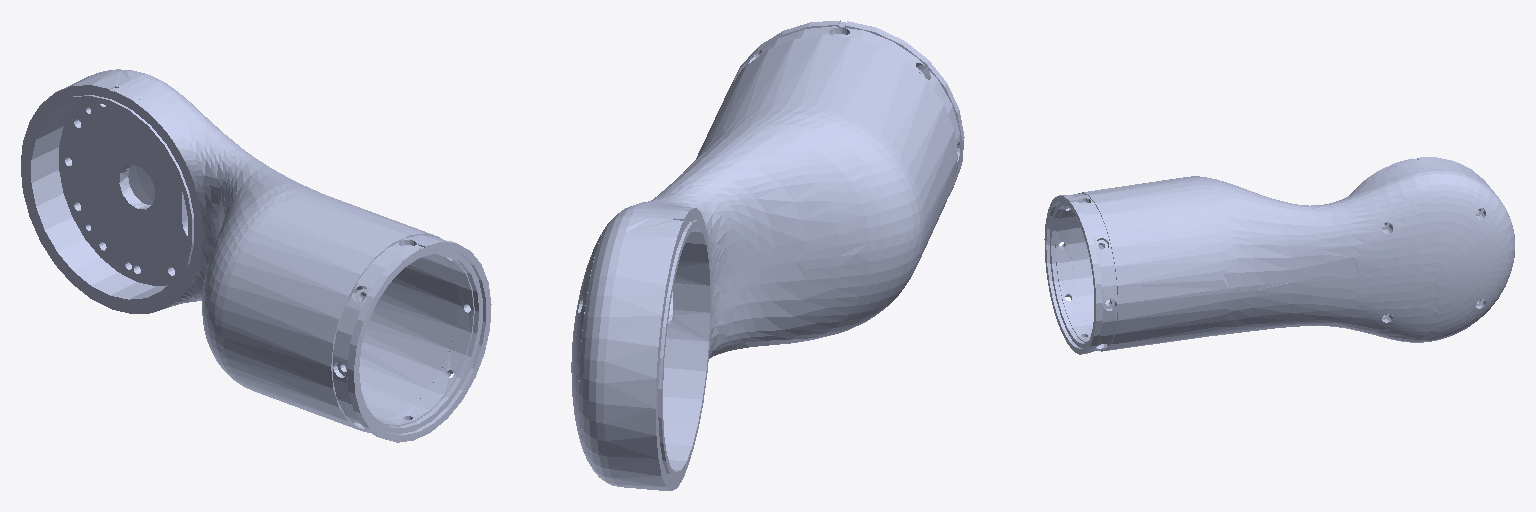
URDF robot description (cobot_description):
<?xml version="1.0" encoding="utf-8"?>
<!-- This URDF was automatically created by SolidWorks to URDF Exporter! Originally created by [author] ([email redacted]) 
     Commit Version: 1.6.0-1-g15f4949  Build Version: 1.6.7594.29634
     For more information, please see http://wiki.ros.org/sw_urdf_exporter -->
<robot
  name="cobot_description">
  <link
    name="base_footprint">
    <inertial>
      <origin
        xyz="0.007766 5.8979E-06 0.18238"
        rpy="0 0 0" />
      <mass
        value="17.629" />
      <inertia
        ixx="0.15019"
        ixy="2.3019E-07"
        ixz="-0.0001315"
        iyy="0.31758"
        iyz="-9.9463E-08"
        izz="0.45265" />
    </inertial>
    <visual>
      <origin
        xyz="0 0 0"
        rpy="0 0 0" />
      <geometry>
        <mesh
          filename="package://cobot_description/meshes/base_footprint.STL" />
      </geometry>
      <material
        name="">
        <color
          rgba="0.77647 0.77647 0.81961 1" />
      </material>
    </visual>
    <collision>
      <origin
        xyz="0 0 0"
        rpy="0 0 0" />
      <geometry>
        <mesh
          filename="package://cobot_description/meshes/base_footprint.STL" />
      </geometry>
    </collision>
  </link>
  <link
    name="base_link">
    <inertial>
      <origin
        xyz="-0.18605 0.0010457 0.13419"
        rpy="0 0 0" />
      <mass
        value="35.137" />
      <inertia
        ixx="0.52213"
        ixy="0.00028039"
        ixz="-0.0048629"
        iyy="1.0698"
        iyz="-0.0011677"
        izz="1.4095" />
    </inertial>
    <visual>
      <origin
        xyz="0 0 0"
        rpy="0 0 0" />
      <geometry>
        <mesh
          filename="package://cobot_description/meshes/rm65_meshes/base_link.STL" />
      </geometry>
      <material
        name="">
        <color
          rgba="0.77647 0.77647 0.81961 1" />
      </material>
    </visual>
    <collision>
      <origin
        xyz="0 0 0"
        rpy="0 0 0" />
      <geometry>
        <mesh
          filename="package://cobot_description/meshes/rm65_meshes/base_link.STL" />
      </geometry>
    </collision>
  </link>
  <joint
    name="base_link"
    type="fixed">
    <origin
      xyz="0.201 0 0.072"
      rpy="0 0 0" />
    <parent
      link="base_footprint" />
    <child
      link="base_link" />
    <axis
      xyz="0 0 0" />
  </joint>
  <link
    name="fr_wheel">
    <inertial>
      <origin
        xyz="-1.4155E-15 -1.1102E-16 -0.00027897"
        rpy="0 0 0" />
      <mass
        value="1.1349" />
      <inertia
        ixx="0.0020665"
        ixy="1.4611E-19"
        ixz="6.3436E-18"
        iyy="0.0020665"
        iyz="-2.0749E-19"
        izz="0.0035433" />
    </inertial>
    <visual>
      <origin
        xyz="0 0 0"
        rpy="0 0 0" />
      <geometry>
        <mesh
          filename="package://cobot_description/meshes/fr_wheel.STL" />
      </geometry>
      <material
        name="">
        <color
          rgba="0.79216 0.81961 0.93333 1" />
      </material>
    </visual>
    <collision>
      <origin
        xyz="0 0 0"
        rpy="0 0 0" />
      <geometry>
        <mesh
          filename="package://cobot_description/meshes/fr_wheel.STL" />
      </geometry>
    </collision>
  </link>
  <joint
    name="fr_wheel_joint"
    type="continuous">
    <origin
      xyz="0 -0.2 0.011"
      rpy="1.5708 0 0" />
    <parent
      link="base_link" />
    <child
      link="fr_wheel" />
    <axis
      xyz="0 0 -1" />
  </joint>
  <link
    name="fl_wheel">
    <inertial>
      <origin
        xyz="1.4155E-15 -9.7145E-17 -0.00027897"
        rpy="0 0 0" />
      <mass
        value="1.1349" />
      <inertia
        ixx="0.0020665"
        ixy="-1.9153E-20"
        ixz="-8.9965E-18"
        iyy="0.0020665"
        iyz="3.0668E-20"
        izz="0.0035433" />
    </inertial>
    <visual>
      <origin
        xyz="0 0 0"
        rpy="0 0 0" />
      <geometry>
        <mesh
          filename="package://cobot_description/meshes/fl_wheel.STL" />
      </geometry>
      <material
        name="">
        <color
          rgba="0.79216 0.81961 0.93333 1" />
      </material>
    </visual>
    <collision>
      <origin
        xyz="0 0 0"
        rpy="0 0 0" />
      <geometry>
        <mesh
          filename="package://cobot_description/meshes/fl_wheel.STL" />
      </geometry>
    </collision>
  </link>
  <joint
    name="fl_wheel_joint"
    type="continuous">
    <origin
      xyz="0 0.2 0.011"
      rpy="1.5708 0 3.1416" />
    <parent
      link="base_link" />
    <child
      link="fl_wheel" />
    <axis
      xyz="0 0 1" />
  </joint>
  <link
    name="br_wheel">
    <inertial>
      <origin
        xyz="0.00023168 -0.0094468 -0.051255"
        rpy="0 0 0" />
      <mass
        value="2.4675" />
      <inertia
        ixx="0.0014416"
        ixy="-1.0824E-06"
        ixz="-6.1151E-07"
        iyy="0.0013614"
        iyz="4.2013E-05"
        izz="0.0015992" />
    </inertial>
    <visual>
      <origin
        xyz="0 0 0"
        rpy="0 0 0" />
      <geometry>
        <mesh
          filename="package://cobot_description/meshes/br_wheel.STL" />
      </geometry>
      <material
        name="">
        <color
          rgba="0.41176 0.41176 0.41176 1" />
      </material>
    </visual>
    <collision>
      <origin
        xyz="0 0 0"
        rpy="0 0 0" />
      <geometry>
        <mesh
          filename="package://cobot_description/meshes/br_wheel.STL" />
      </geometry>
    </collision>
  </link>
  <joint
    name="br_wheel_joint"
    type="continuous">
    <origin
      xyz="-0.402 -0.173 0.0405"
      rpy="0 0 -1.5708" />
    <parent
      link="base_link" />
    <child
      link="br_wheel" />
    <axis
      xyz="0 0 -1" />
  </joint>
  <link
    name="bl_wheel">
    <inertial>
      <origin
        xyz="-6.5897E-05 0.0094494 -0.051255"
        rpy="0 0 0" />
      <mass
        value="2.4675" />
      <inertia
        ixx="0.0014415"
        ixy="-2.4885E-06"
        ixz="-1.2571E-07"
        iyy="0.0013615"
        iyz="-4.2017E-05"
        izz="0.0015992" />
    </inertial>
    <visual>
      <origin
        xyz="0 0 0"
        rpy="0 0 0" />
      <geometry>
        <mesh
          filename="package://cobot_description/meshes/bl_wheel.STL" />
      </geometry>
      <material
        name="">
        <color
          rgba="0.41176 0.41176 0.41176 1" />
      </material>
    </visual>
    <collision>
      <origin
        xyz="0 0 0"
        rpy="0 0 0" />
      <geometry>
        <mesh
          filename="package://cobot_description/meshes/bl_wheel.STL" />
      </geometry>
    </collision>
  </link>
  <joint
    name="bl_wheel_joint"
    type="continuous">
    <origin
      xyz="-0.402 0.173 0.0405"
      rpy="0 0 1.5708" />
    <parent
      link="base_link" />
    <child
      link="bl_wheel" />
    <axis
      xyz="0 0 -1" />
  </joint>
  <link
    name="front_lidar">
    <inertial>
      <origin
        xyz="-0.00016986 -2.2612E-10 0.018642"
        rpy="0 0 0" />
      <mass
        value="0.15478" />
      <inertia
        ixx="6.9567E-05"
        ixy="-1.7298E-12"
        ixz="-4.6381E-07"
        iyy="7.1065E-05"
        iyz="-5.4415E-13"
        izz="9.8843E-05" />
    </inertial>
    <visual>
      <origin
        xyz="0 0 0"
        rpy="0 0 0" />
      <geometry>
        <mesh
          filename="package://cobot_description/meshes/front_lidar.STL" />
      </geometry>
      <material
        name="">
        <color
          rgba="1 1 1 1" />
      </material>
    </visual>
    <collision>
      <origin
        xyz="0 0 0"
        rpy="0 0 0" />
      <geometry>
        <mesh
          filename="package://cobot_description/meshes/front_lidar.STL" />
      </geometry>
    </collision>
  </link>
  <joint
    name="front_lidar_joint"
    type="fixed">
    <origin
      xyz="0.083559 0 0.314"
      rpy="0 0 0" />
    <parent
      link="base_link" />
    <child
      link="front_lidar" />
    <axis
      xyz="0 0 0" />
  </joint>
  <link
    name="arm_base">
    <inertial>
      <origin
        xyz="-0.024179 0.0061525 0.44341"
        rpy="0 0 0" />
      <mass
        value="8.0743" />
      <inertia
        ixx="0.080601"
        ixy="4.9995E-05"
        ixz="0.00052048"
        iyy="0.077325"
        iyz="-2.0984E-05"
        izz="0.024026" />
    </inertial>
    <visual>
      <origin
        xyz="0 0 0"
        rpy="0 0 0" />
      <geometry>
        <mesh
          filename="package://cobot_description/meshes/arm_base.STL" />
      </geometry>
      <material
        name="">
        <color
          rgba="0.69804 0.69804 0.69804 1" />
      </material>
    </visual>
    <collision>
      <origin
        xyz="0 0 0"
        rpy="0 0 0" />
      <geometry>
        <mesh
          filename="package://cobot_description/meshes/arm_base.STL" />
      </geometry>
    </collision>
  </link>
  <joint
    name="arm_base"
    type="fixed">
    <origin
      xyz="-0.101 0 0.273"
      rpy="0 0 0" />
    <parent
      link="base_link" />
    <child
      link="arm_base" />
    <axis
      xyz="0 0 0" />
  </joint>
  <link
    name="Link1">
    <inertial>
      <origin
        xyz="-0.016412 0.00026497 -0.060445"
        rpy="0 0 0" />
      <mass
        value="0.53096" />
      <inertia
        ixx="0.00096525"
        ixy="1.49E-05"
        ixz="-1.7049E-05"
        iyy="0.0018872"
        iyz="1.0632E-06"
        izz="0.0018331" />
    </inertial>
    <visual>
      <origin
        xyz="0 0 0"
        rpy="0 0 0" />
      <geometry>
        <mesh
          filename="package://cobot_description/meshes/rm65_meshes/Link1.STL" />
      </geometry>
      <material
        name="">
        <color
          rgba="1 1 1 1" />
      </material>
    </visual>
    <collision>
      <origin
        xyz="0 0 0"
        rpy="0 0 0" />
      <geometry>
        <mesh
          filename="package://cobot_description/meshes/rm65_meshes/Link1.STL" />
      </geometry>
    </collision>
  </link>
  <joint
    name="joint1"
    type="continuous">
    <origin
      xyz="0 0 0.4878"
      rpy="3.1416 0 -2.8131" />
    <parent
      link="arm_base" />
    <child
      link="Link1" />
    <axis
      xyz="0 0 -1" />
  </joint>
  <link
    name="Link2">
    <inertial>
      <origin
        xyz="-0.013925 -0.0036303 -0.24133"
        rpy="0 0 0" />
      <mass
        value="2.467" />
      <inertia
        ixx="0.0043154"
        ixy="-0.00036299"
        ixz="-0.00050966"
        iyy="0.0045892"
        iyz="-0.00056301"
        izz="0.0029702" />
    </inertial>
    <visual>
      <origin
        xyz="0 0 0"
        rpy="0 0 0" />
      <geometry>
        <mesh
          filename="package://cobot_description/meshes/rm65_meshes/Link2.STL" />
      </geometry>
      <material
        name="">
        <color
          rgba="0.79216 0.81961 0.93333 1" />
      </material>
    </visual>
    <collision>
      <origin
        xyz="0 0 0"
        rpy="0 0 0" />
      <geometry>
        <mesh
          filename="package://cobot_description/meshes/rm65_meshes/Link2.STL" />
      </geometry>
    </collision>
  </link>
  <joint
    name="joint2"
    type="continuous">
    <origin
      xyz="-0.1157 0 -0.059"
      rpy="-1.5708 0 -1.5708" />
    <parent
      link="Link1" />
    <child
      link="Link2" />
    <axis
      xyz="0 0 -1" />
  </joint>
  <link
    name="tool_link">
    <inertial>
      <origin
        xyz="-1.1793E-13 -4.4409E-16 0.0086479"
        rpy="0 0 0" />
      <mass
        value="0.88542" />
      <inertia
        ixx="0.00049603"
        ixy="-1.3553E-20"
        ixz="1.6941E-19"
        iyy="0.00049603"
        iyz="-2.7105E-20"
        izz="0.00097955" />
    </inertial>
    <visual>
      <origin
        xyz="0 0 0"
        rpy="0 0 0" />
      <geometry>
        <mesh
          filename="package://cobot_description/meshes/tool_link.STL" />
      </geometry>
      <material
        name="">
        <color
          rgba="0.77647 0.77647 0.81961 1" />
      </material>
    </visual>
    <collision>
      <origin
        xyz="0 0 0"
        rpy="0 0 0" />
      <geometry>
        <mesh
          filename="package://cobot_description/meshes/tool_link.STL" />
      </geometry>
    </collision>
  </link>
  <joint
    name="tool_joint"
    type="continuous">
    <origin
      xyz="0.10244 -0.029816 -0.44053"
      rpy="-2.2334 -0.037381 -3.1416" />
    <parent
      link="Link2" />
    <child
      link="tool_link" />
    <axis
      xyz="0 0 -1" />
  </joint>
  <link
    name="hand_link">
    <inertial>
      <origin
        xyz="0.00013949 -1.7025E-05 0.10111"
        rpy="0 0 0" />
      <mass
        value="0.12419" />
      <inertia
        ixx="2.4474E-05"
        ixy="4.2497E-13"
        ixz="2.3537E-07"
        iyy="3.8707E-05"
        iyz="-3.3879E-09"
        izz="4.7571E-05" />
    </inertial>
    <visual>
      <origin
        xyz="0 0 0"
        rpy="0 0 0" />
      <geometry>
        <mesh
          filename="package://cobot_description/meshes/hand_link.STL" />
      </geometry>
      <material
        name="">
        <color
          rgba="0.79216 0.81961 0.93333 1" />
      </material>
    </visual>
    <collision>
      <origin
        xyz="0 0 0"
        rpy="0 0 0" />
      <geometry>
        <mesh
          filename="package://cobot_description/meshes/hand_link.STL" />
      </geometry>
    </collision>
  </link>
  <joint
    name="hand_joint"
    type="fixed">
    <origin
      xyz="0 0 0.018"
      rpy="0 0 -2.3363" />
    <parent
      link="tool_link" />
    <child
      link="hand_link" />
    <axis
      xyz="0 0 0" />
  </joint>
  <link
    name="hand_camera">
    <inertial>
      <origin
        xyz="0.0009804 0.025556 -0.036977"
        rpy="0 0 0" />
      <mass
        value="0.067926" />
      <inertia
        ixx="3.7811E-05"
        ixy="2.2861E-18"
        ixz="2.2446E-19"
        iyy="9.4061E-05"
        iyz="6.1172E-06"
        izz="0.00012345" />
    </inertial>
    <visual>
      <origin
        xyz="0 0 0"
        rpy="0 0 0" />
      <geometry>
        <mesh
          filename="package://cobot_description/meshes/hand_camera.STL" />
      </geometry>
      <material
        name="">
        <color
          rgba="1 1 1 1" />
      </material>
    </visual>
    <collision>
      <origin
        xyz="0 0 0"
        rpy="0 0 0" />
      <geometry>
        <mesh
          filename="package://cobot_description/meshes/hand_camera.STL" />
      </geometry>
    </collision>
  </link>
  <joint
    name="hand_camera_joint"
    type="fixed">
    <origin
      xyz="-0.049074 0.048515 0.06645"
      rpy="0.066568 0 -2.3363" />
    <parent
      link="tool_link" />
    <child
      link="hand_camera" />
    <axis
      xyz="0 0 0" />
  </joint>
  <link
    name="neck_lidar">
    <inertial>
      <origin
        xyz="7.4985E-05 4.6845E-07 4.6452E-05"
        rpy="0 0 0" />
      <mass
        value="1555.5" />
      <inertia
        ixx="305.18"
        ixy="-1.6368E-07"
        ixz="-1.1909E-05"
        iyy="305.18"
        iyz="-5.2042E-08"
        izz="583.7" />
    </inertial>
    <visual>
      <origin
        xyz="0 0 0"
        rpy="0 0 0" />
      <geometry>
        <mesh
          filename="package://cobot_description/meshes/neck_lidar.STL" />
      </geometry>
      <material
        name="">
        <color
          rgba="0.24706 0.96471 1 1" />
      </material>
    </visual>
    <collision>
      <origin
        xyz="0 0 0"
        rpy="0 0 0" />
      <geometry>
        <mesh
          filename="package://cobot_description/meshes/neck_lidar.STL" />
      </geometry>
    </collision>
  </link>
  <joint
    name="neck_lidar_joint"
    type="fixed">
    <origin
      xyz="0.041909 0 1.1614"
      rpy="0 0.5236 0" />
    <parent
      link="base_link" />
    <child
      link="neck_lidar" />
    <axis
      xyz="0 0 0" />
  </joint>
  <link
    name="front_camera">
    <inertial>
      <origin
        xyz="0.024537 -0.036831 -0.26799"
        rpy="0 0 0" />
      <mass
        value="91.96" />
      <inertia
        ixx="16.389"
        ixy="0.55033"
        ixz="0.32339"
        iyy="6.87"
        iyz="2.1896"
        izz="13.855" />
    </inertial>
    <visual>
      <origin
        xyz="0 0 0"
        rpy="0 0 0" />
      <geometry>
        <mesh
          filename="package://cobot_description/meshes/front_camera.STL" />
      </geometry>
      <material
        name="">
        <color
          rgba="1 1 1 1" />
      </material>
    </visual>
    <collision>
      <origin
        xyz="0 0 0"
        rpy="0 0 0" />
      <geometry>
        <mesh
          filename="package://cobot_description/meshes/front_camera.STL" />
      </geometry>
    </collision>
  </link>
  <joint
    name="front_camera_joint"
    type="fixed">
    <origin
      xyz="0.12851 0.0009804 0.288"
      rpy="-1.5708 0 -1.5708" />
    <parent
      link="base_link" />
    <child
      link="front_camera" />
    <axis
      xyz="0 0 0" />
  </joint>
  <link
    name="head_Link">
    <inertial>
      <origin
        xyz="-0.013341 -0.0030001 0.14378"
        rpy="0 0 0" />
      <mass
        value="0.10888" />
      <inertia
        ixx="0.00015548"
        ixy="5.612E-11"
        ixz="7.7393E-06"
        iyy="6.2021E-05"
        iyz="-3.4676E-10"
        izz="0.00016861" />
    </inertial>
    <visual>
      <origin
        xyz="0 0 0"
        rpy="0 0 0" />
      <geometry>
        <mesh
          filename="package://cobot_description/meshes/head_Link.STL" />
      </geometry>
      <material
        name="">
        <color
          rgba="1 1 1 1" />
      </material>
    </visual>
    <collision>
      <origin
        xyz="0 0 0"
        rpy="0 0 0" />
      <geometry>
        <mesh
          filename="package://cobot_description/meshes/head_Link.STL" />
      </geometry>
    </collision>
  </link>
  <joint
    name="head_joint"
    type="fixed">
    <origin
      xyz="-0.10013 0 1.2758"
      rpy="0 0 3.1416" />
    <parent
      link="base_link" />
    <child
      link="head_Link" />
    <axis
      xyz="0 0 0" />
  </joint>
  <link
    name="head_camera">
    <inertial>
      <origin
        xyz="0.027537 -0.14823 -1.1256"
        rpy="0 0 0" />
      <mass
        value="91.96" />
      <inertia
        ixx="16.389"
        ixy="0.28606"
        ixz="-0.57062"
        iyy="13.534"
        iyz="-2.6339"
        izz="7.1915" />
    </inertial>
    <visual>
      <origin
        xyz="0 0 0"
        rpy="0 0 0" />
      <geometry>
        <mesh
          filename="package://cobot_description/meshes/head_camera.STL" />
      </geometry>
      <material
        name="">
        <color
          rgba="1 1 1 1" />
      </material>
    </visual>
    <collision>
      <origin
        xyz="0 0 0"
        rpy="0 0 0" />
      <geometry>
        <mesh
          filename="package://cobot_description/meshes/head_camera.STL" />
      </geometry>
    </collision>
  </link>
  <joint
    name="head_camera_joint"
    type="fixed">
    <origin
      xyz="-0.033687 -0.0039804 0.18195"
      rpy="0.066568 0 1.5708" />
    <parent
      link="head_Link" />
    <child
      link="head_camera" />
    <axis
      xyz="0 0 0" />
  </joint>
  <link
    name="basket_Link">
    <inertial>
      <origin
        xyz="-4.1633E-16 -4.4913E-14 0.021251"
        rpy="0 0 0" />
      <mass
        value="0.39699" />
      <inertia
        ixx="0.0056399"
        ixy="-2.6074E-10"
        ixz="5.7967E-18"
        iyy="0.0033409"
        iyz="1.9651E-17"
        izz="0.0081811" />
    </inertial>
    <visual>
      <origin
        xyz="0 0 0"
        rpy="0 0 0" />
      <geometry>
        <mesh
          filename="package://cobot_description/meshes/basket_Link.STL" />
      </geometry>
      <material
        name="">
        <color
          rgba="0.69804 0.69804 0.69804 1" />
      </material>
    </visual>
    <collision>
      <origin
        xyz="0 0 0"
        rpy="0 0 0" />
      <geometry>
        <mesh
          filename="package://cobot_description/meshes/basket_Link.STL" />
      </geometry>
    </collision>
  </link>
  <joint
    name="basket_joint"
    type="fixed">
    <origin
      xyz="-0.3885 0 0.2745"
      rpy="0 0 0" />
    <parent
      link="base_link" />
    <child
      link="basket_Link" />
    <axis
      xyz="0 0 0" />
  </joint>
</robot>

--- Facts derived from the render (not from the file) ---
The picture shows the robot from 3 angles, left to right: view 1: azimuth 30°, elevation 25°; view 2: azimuth 150°, elevation 25°; view 3: azimuth 270°, elevation 25°; orthographic projection.
Model cobot_description with 18 links and 17 joints (7 continuous, 10 fixed), rooted at base_footprint, posed every joint at zero.
Visible links, largest first — view 1: Link2; view 2: Link2; view 3: Link2.
Link boxes in pixels (bbox=[...]): Link2: bbox=[21, 69, 491, 442]; Link2: bbox=[571, 20, 964, 490]; Link2: bbox=[1044, 157, 1514, 354].
Size in the robot's own frame: 0.0861 by 0.2045 by 0.081 metres.
Meshes: 18 distinct files referenced, 1 mesh visuals loaded (1 binary STL); not drawn: 17 (reference not matched to a file when rendering).